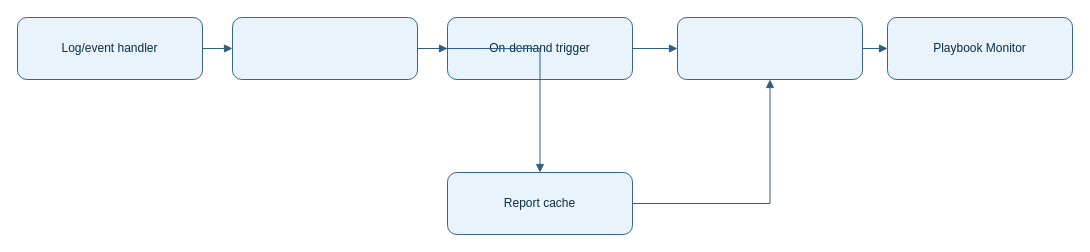
Image size: 1090x252. Some labels were removed from this diagram. The centre of each missing label's shape, as x and y in pixels:
"Connector action" goes at (x=769, y=48).
"Incident" goes at (x=325, y=48).
